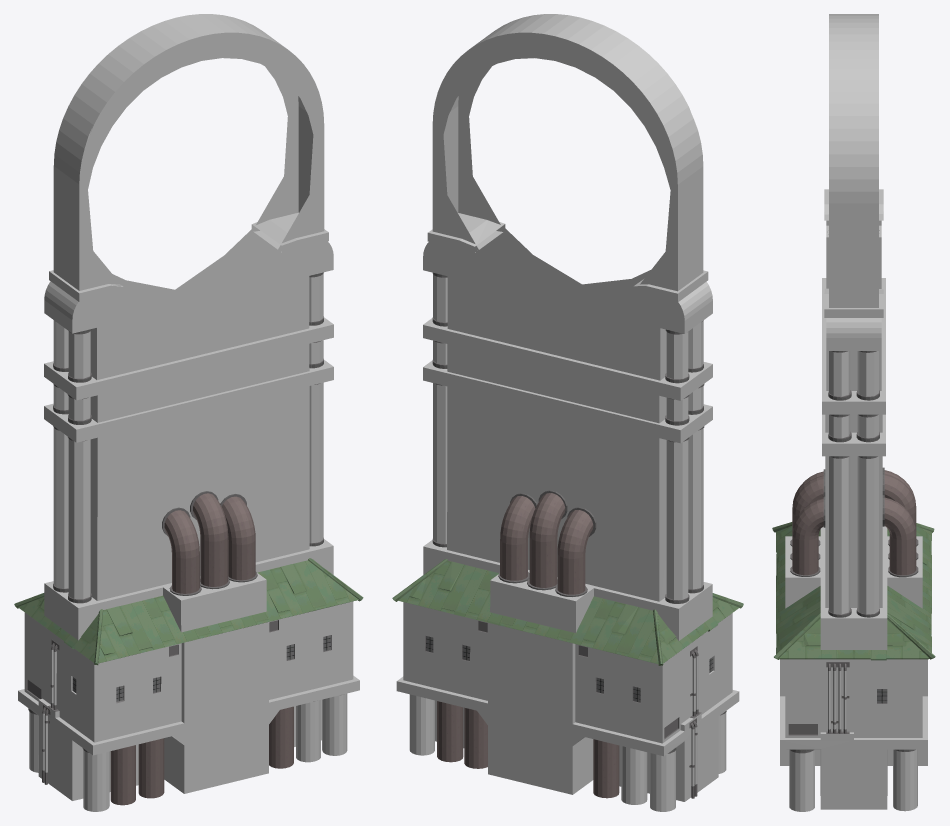
Rendered from AreaJ_PipePillar_Aa.fbx.
The picture shows the model from 3 angles, left to right: view 1: azimuth 30°, elevation 25°; view 2: azimuth 150°, elevation 25°; view 3: azimuth 270°, elevation 25°; orthographic projection.
Visible parts, largest first — view 1: SM_ENV_AMVLLG02_AreaJ_PipePillar_Aa.mo; view 2: SM_ENV_AMVLLG02_AreaJ_PipePillar_Aa.mo; view 3: SM_ENV_AMVLLG02_AreaJ_PipePillar_Aa.mo.
Part boxes in pixels (x1=…): SM_ENV_AMVLLG02_AreaJ_PipePillar_Aa.mo: x1=14, y1=14, x2=363, y2=811; SM_ENV_AMVLLG02_AreaJ_PipePillar_Aa.mo: x1=392, y1=14, x2=743, y2=811; SM_ENV_AMVLLG02_AreaJ_PipePillar_Aa.mo: x1=772, y1=14, x2=935, y2=811.
Bounding box in the file's own units: 1922 × 4965 × 1019.
